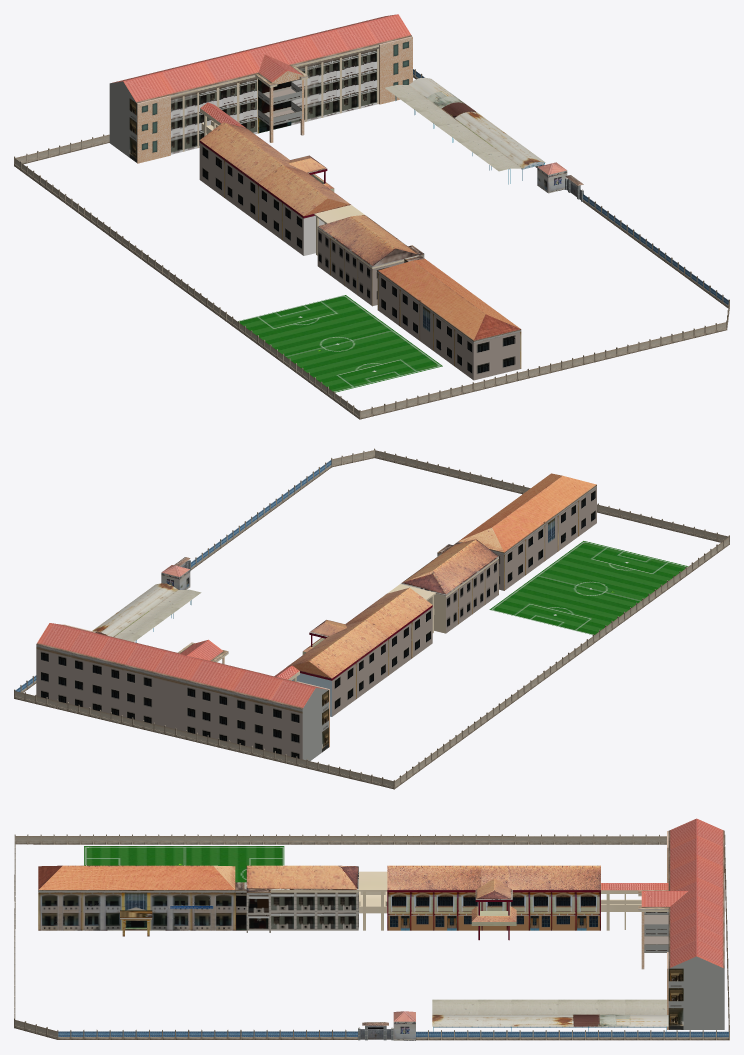
The model's file is Truong thcs Tan Dong.glb.
3 views of the same model, one above another, from view 1: azimuth 30°, elevation 25°; view 2: azimuth 150°, elevation 25°; view 3: azimuth 270°, elevation 25° (orthographic). The views are drawn at different scales.
Parts seen in each view (by area): view 1: THCS_TANDONG, SVD; view 2: THCS_TANDONG, SVD; view 3: THCS_TANDONG, SVD.
Boxes of the visible parts, x1,y1,x2,y2 form: THCS_TANDONG: (14, 14, 729, 419); SVD: (237, 295, 442, 392); THCS_TANDONG: (14, 448, 729, 789); SVD: (489, 541, 688, 634); THCS_TANDONG: (14, 818, 729, 1040); SVD: (84, 846, 284, 882).
Size of the model in its own units: 82.95 by 14.44 by 127.
Materials: 2 (2 with a texture image).
